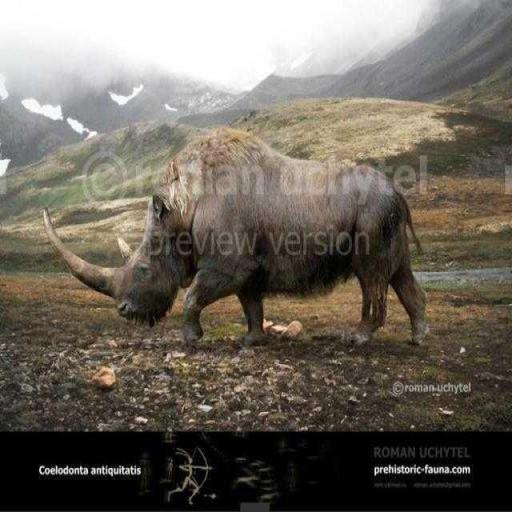Rhino: (41, 124, 429, 350)
